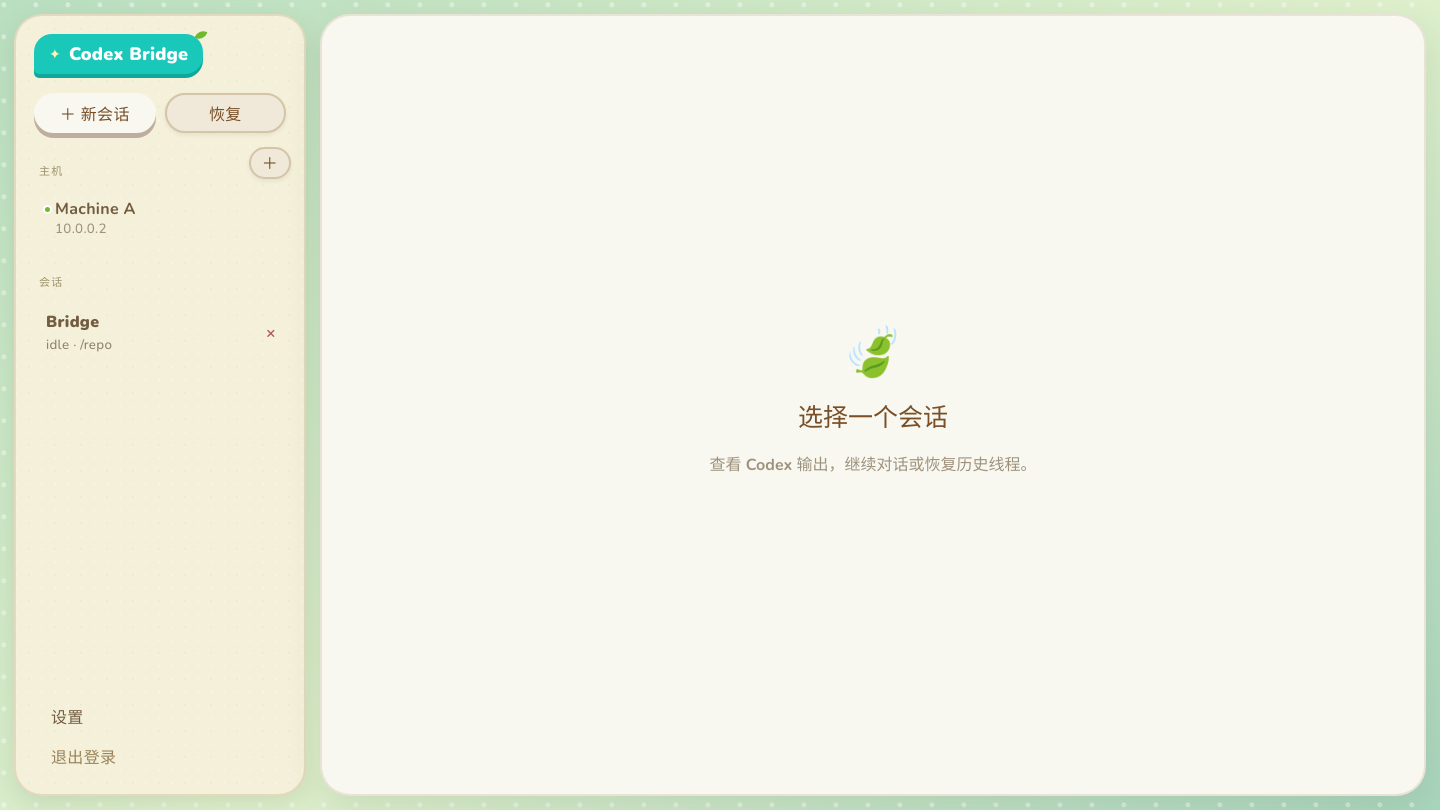
Test: dashboard security and operations › renders terminal screenshot snapshots from ANSI in the browser
Click the text "Bridge" at (73, 322), box [46, 311, 99, 333]
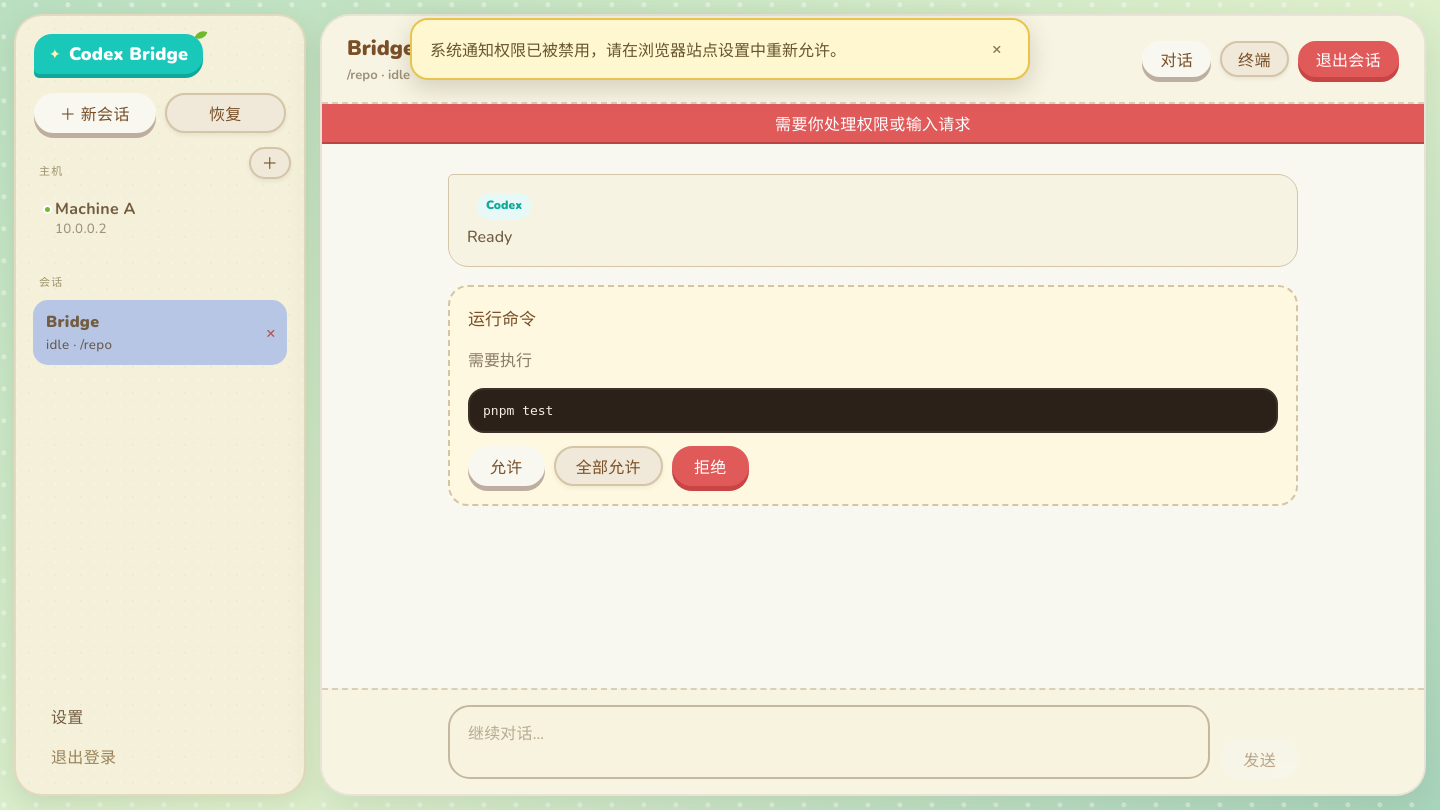
Now the text "Ready" is shown, box [467, 226, 512, 248]
Click the button "终端" at (1254, 59), box [1220, 41, 1289, 77]
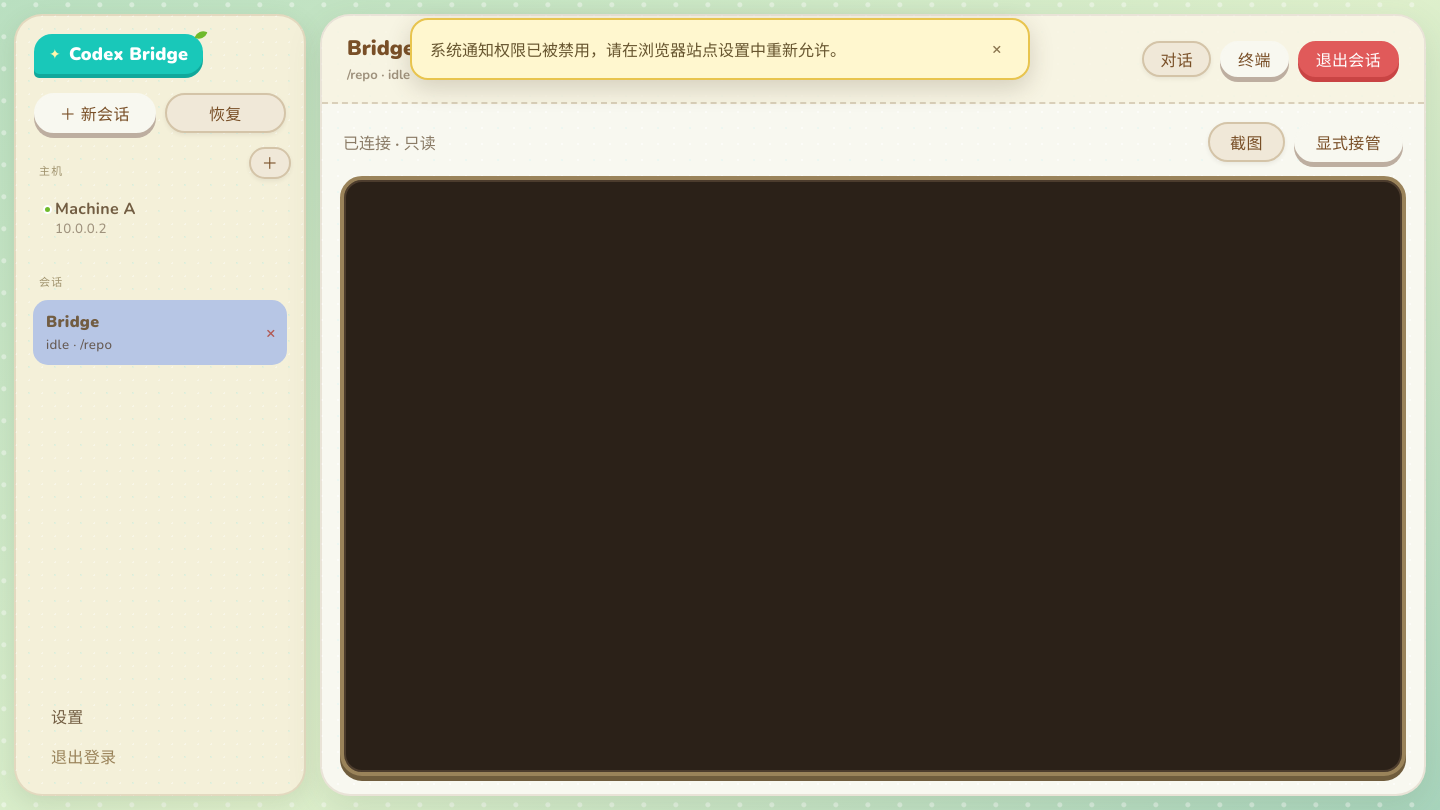
Click the button "截图" at (1246, 142), box [1208, 122, 1285, 162]
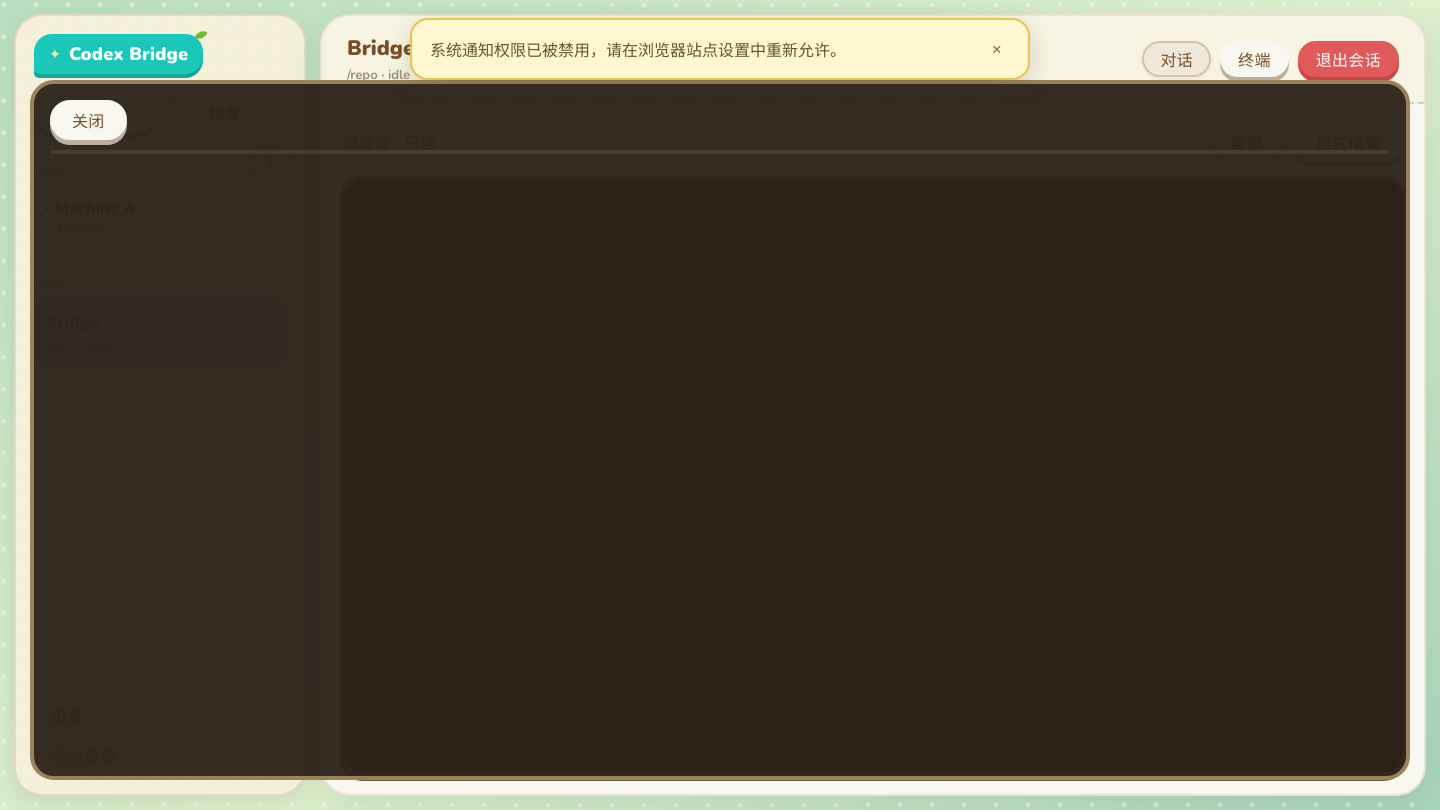
Now the element named "终端 ANSI 快照" is shown, box [320, 150, 1390, 154]
